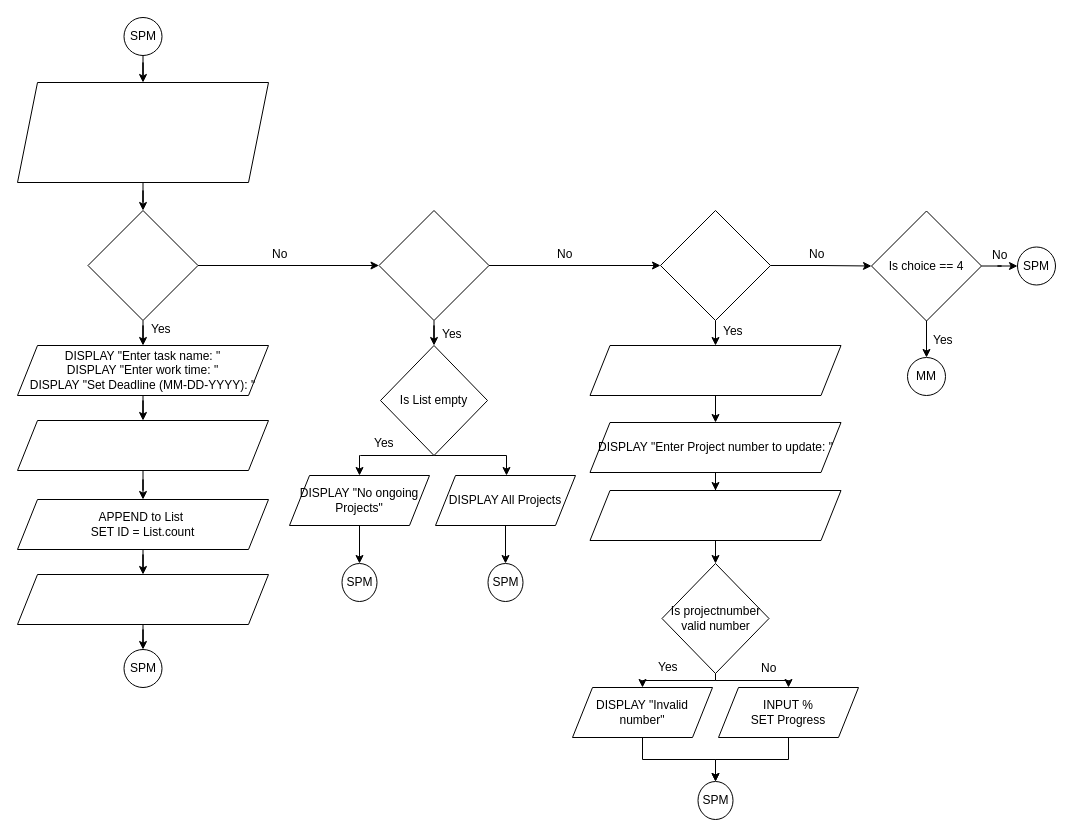
The diagram is 1073 pixels wide and 837 high, and some of its shapes have lost their labels. Here are the shapes that lost their labels. From the top down, the centre of each, then its label:
the point at 142,132: DISPLAY "Solo Project Menu: 1. Add Task 2. Show Task 3. Update Progress 4. Exit"
the point at 142,265: Is choice == 1
the point at 433,265: Is choice == 2
the point at 715,265: Is choice == 3
the point at 715,370: DISPLAY Projects
the point at 142,445: INPUT Taskname INPUT Taskworktime INPUT Taskdeadline
the point at 715,515: INPUT projectnumber
the point at 142,599: DISPLAY "Task added successfully."
